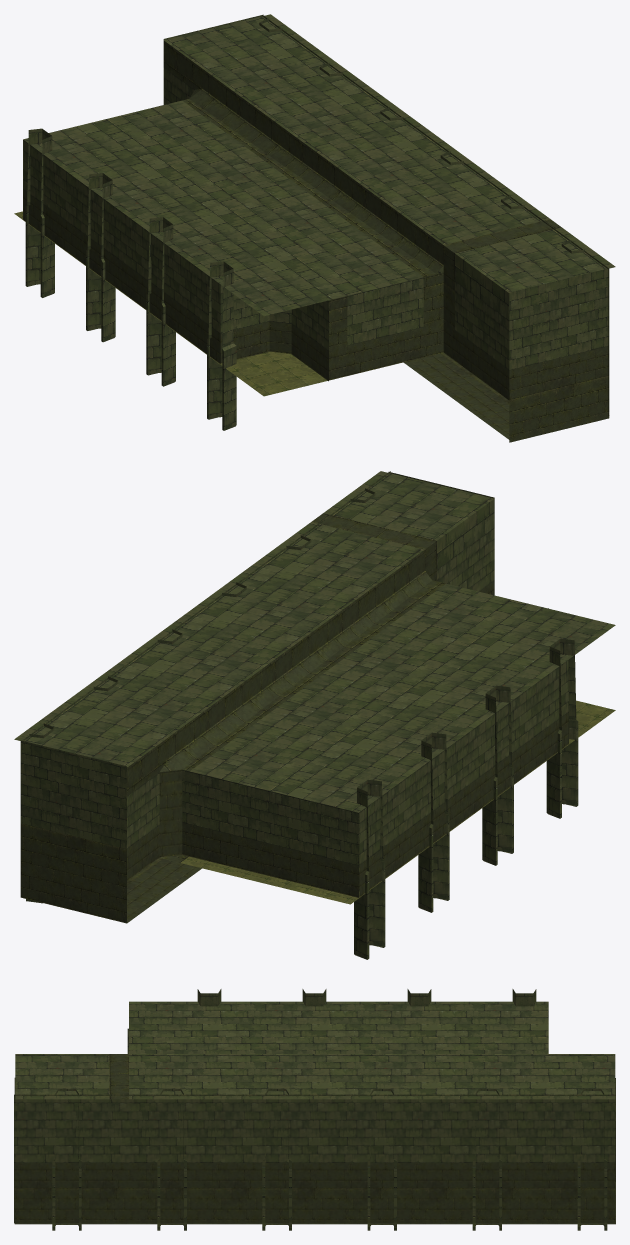
File: Sewer_Start.fbx
3 views of the same model, one above another, from view 1: azimuth 30°, elevation 25°; view 2: azimuth 150°, elevation 25°; view 3: azimuth 270°, elevation 25° (orthographic). The views are drawn at different scales.
Visible parts, largest first — view 1: Sewer_Wall_MossyMasonry_Toon.floor.002, Sewer_Wall_MossyMasonry_Toon.floor.003, Sewer_Wall_MossyMasonry_Toon.floor.004, Sewer_Wall_MossyMasonry_Toon.011, Sewer_Wall_MossyMasonry_Toon.floor.008, Sewer_Wall_MossyMasonry_Toon.floor.007, Sewer_Wall_MossyMasonry_Toon.floor, Sewer_Wall_MossyMasonry_Toon.floor.005, Sewer_Wall_MossyMasonry_Toon.floor.006, Sewer_Wall_MossyMasonry_Toon.010; view 2: Sewer_Wall_MossyMasonry_Toon.floor.002, Sewer_Wall_MossyMasonry_Toon.floor.006, Sewer_Wall_MossyMasonry_Toon.floor.009, Sewer_Wall_MossyMasonry_Toon.floor.004, Sewer_Wall_MossyMasonry_Toon.011, Sewer_Wall_MossyMasonry_Toon.floor, Sewer_Wall_MossyMasonry_Toon.floor.003, Sewer_Wall_MossyMasonry_Toon.floor.007, Sewer_Wall_MossyMasonry_Toon.floor.005, Sewer_Wall_MossyMasonry_Toon.010; view 3: Sewer_Wall_MossyMasonry_Toon.floor.005, Sewer_Wall_MossyMasonry_Toon.floor.002, Sewer_Wall_MossyMasonry_Toon.010, Sewer_Wall_MossyMasonry_Toon.011, Sewer_Wall_MossyMasonry_Toon.floor.007.
Boxes of the visible parts, x1,y1,x2,y2 form: Sewer_Wall_MossyMasonry_Toon.floor.002: [23, 14, 615, 319]; Sewer_Wall_MossyMasonry_Toon.floor.003: [328, 268, 609, 442]; Sewer_Wall_MossyMasonry_Toon.floor.004: [23, 140, 220, 363]; Sewer_Wall_MossyMasonry_Toon.011: [25, 128, 236, 430]; Sewer_Wall_MossyMasonry_Toon.floor.008: [220, 285, 328, 381]; Sewer_Wall_MossyMasonry_Toon.floor.007: [403, 352, 601, 439]; Sewer_Wall_MossyMasonry_Toon.floor: [14, 211, 327, 396]; Sewer_Wall_MossyMasonry_Toon.floor.005: [262, 15, 608, 415]; Sewer_Wall_MossyMasonry_Toon.floor.006: [23, 68, 194, 219]; Sewer_Wall_MossyMasonry_Toon.010: [259, 18, 584, 319]; Sewer_Wall_MossyMasonry_Toon.floor.002: [14, 471, 615, 812]; Sewer_Wall_MossyMasonry_Toon.floor.006: [127, 769, 358, 897]; Sewer_Wall_MossyMasonry_Toon.floor.009: [20, 740, 126, 923]; Sewer_Wall_MossyMasonry_Toon.floor.004: [359, 659, 568, 897]; Sewer_Wall_MossyMasonry_Toon.011: [354, 638, 578, 959]; Sewer_Wall_MossyMasonry_Toon.floor: [160, 700, 615, 904]; Sewer_Wall_MossyMasonry_Toon.floor.003: [390, 472, 494, 595]; Sewer_Wall_MossyMasonry_Toon.floor.007: [127, 857, 201, 923]; Sewer_Wall_MossyMasonry_Toon.floor.005: [22, 471, 390, 795]; Sewer_Wall_MossyMasonry_Toon.010: [26, 488, 375, 903]; Sewer_Wall_MossyMasonry_Toon.floor.005: [14, 1094, 615, 1223]; Sewer_Wall_MossyMasonry_Toon.floor.002: [15, 1001, 615, 1099]; Sewer_Wall_MossyMasonry_Toon.010: [52, 1089, 607, 1230]; Sewer_Wall_MossyMasonry_Toon.011: [197, 989, 536, 1006]; Sewer_Wall_MossyMasonry_Toon.floor.007: [14, 1147, 615, 1224].
Size of the model in its own units: 1665 by 945 by 3459.
